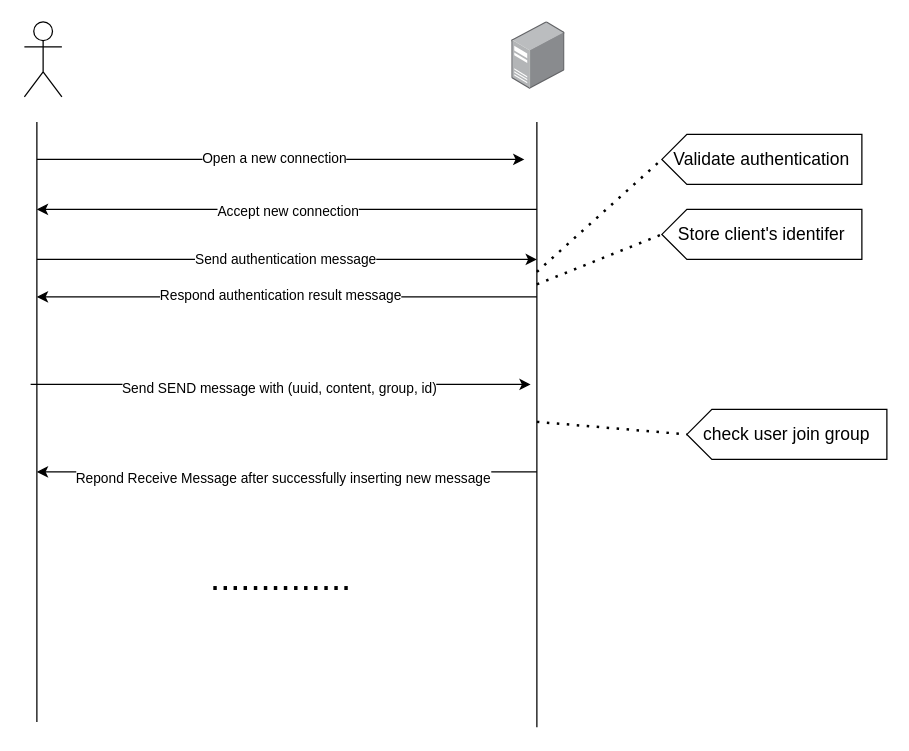
Image size: 909x751. Some labels were removed from this diagram. Each missing label, with the box of its shape:
Client: (23, 21, 62, 97)
Server: (511, 21, 564, 89)
